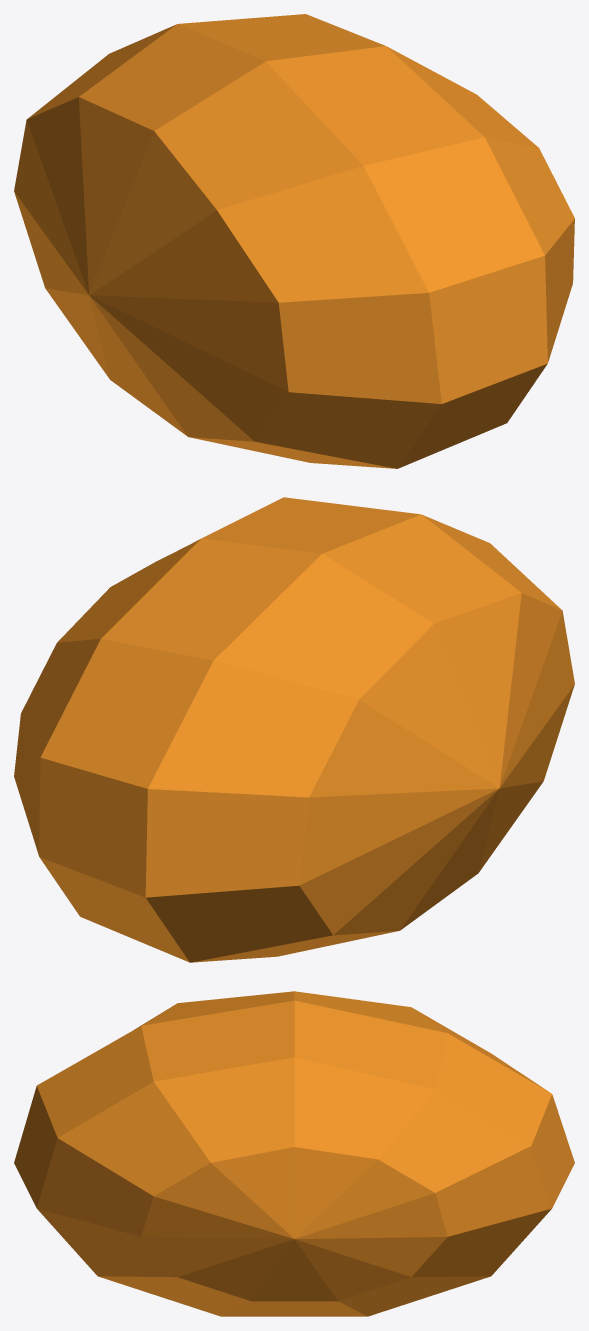
The model's file is potato.fbx.
3 renders of one model, top to bottom at view 1: azimuth 30°, elevation 25°; view 2: azimuth 150°, elevation 25°; view 3: azimuth 270°, elevation 25°, orthographic. The views are drawn at different scales.
Parts seen in each view (by area): view 1: Sphere007; view 2: Sphere007; view 3: Sphere007.
Part boxes in pixels (box(x1,y1,x2,y2)): Sphere007: box(14, 14, 574, 468); Sphere007: box(14, 497, 574, 962); Sphere007: box(14, 991, 574, 1316).
Bounding box in the file's own units: 72.74 × 59.96 × 108.
